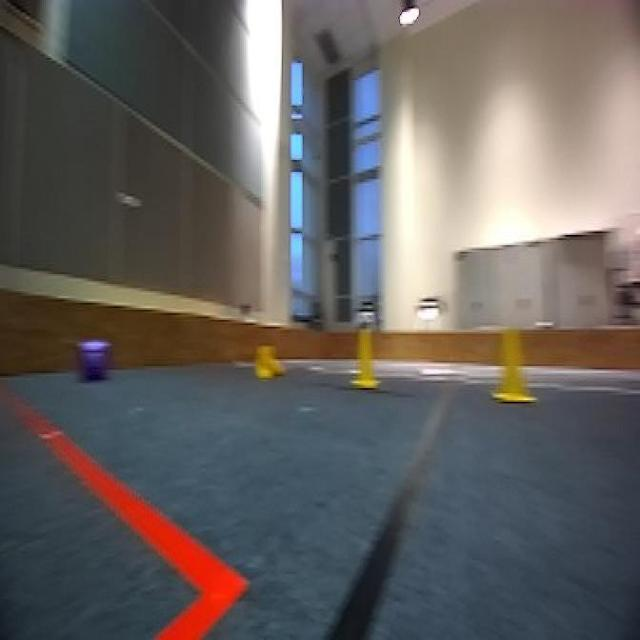frc_cone: (494, 327, 536, 410), (351, 323, 379, 388), (254, 342, 289, 381)
frc_cube: (79, 337, 111, 386)
